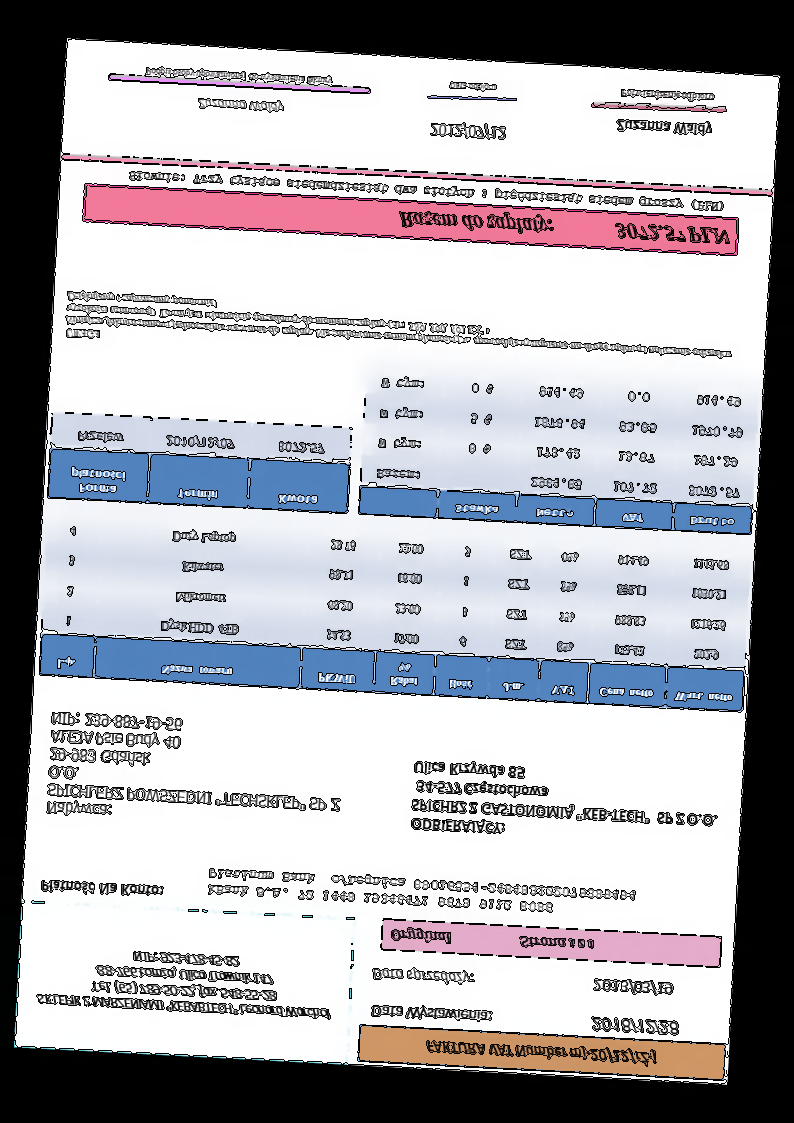Table: (37, 508, 754, 716), (356, 362, 761, 538), (46, 410, 354, 517)
TextBox: (62, 288, 738, 376), (44, 708, 347, 833), (406, 756, 722, 849), (126, 167, 726, 215), (34, 941, 338, 1024), (204, 865, 639, 922), (394, 206, 734, 251), (423, 1037, 661, 1068), (388, 923, 597, 955), (142, 64, 336, 90), (367, 999, 495, 1028), (367, 963, 478, 991), (38, 877, 167, 900), (612, 115, 716, 141), (589, 1011, 681, 1039), (618, 84, 716, 108), (192, 94, 287, 118), (425, 119, 508, 144), (589, 975, 676, 998), (446, 77, 499, 98)
